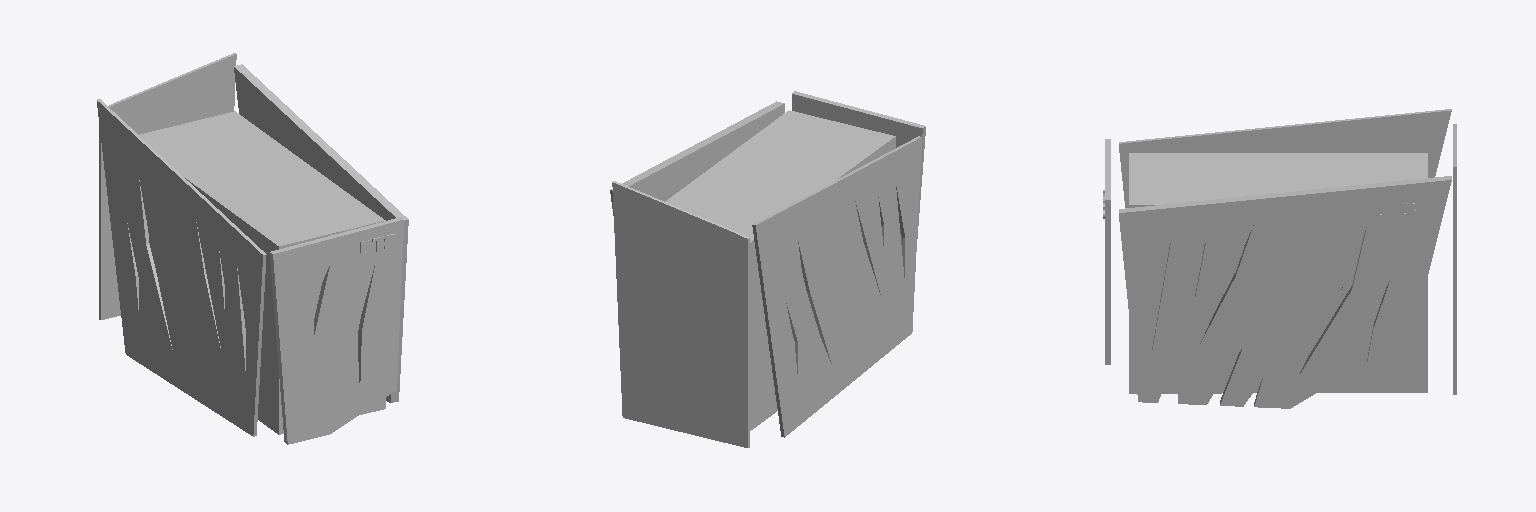
File: Building11.obj
The picture shows the model from 3 angles: view 1: azimuth 30°, elevation 25°; view 2: azimuth 150°, elevation 25°; view 3: azimuth 270°, elevation 25°; orthographic projection.
Parts seen in each view (by area): view 1: Mesh8 Model, Mesh10 Model, Mesh11 Model, Mesh9 Model, Mesh7 Model; view 2: Mesh8 Model, Mesh9 Model, Mesh11 Model, Mesh7 Model, Mesh10 Model; view 3: Mesh7 Model, Mesh11 Model, Mesh8 Model, Mesh10 Model, Mesh9 Model.
Boxes of the visible parts, x1,y1,x2,y2 form: Mesh8 Model: [97, 99, 266, 436]; Mesh10 Model: [270, 217, 403, 444]; Mesh11 Model: [139, 111, 385, 434]; Mesh9 Model: [99, 53, 236, 319]; Mesh7 Model: [234, 64, 408, 402]; Mesh8 Model: [752, 136, 921, 437]; Mesh9 Model: [612, 181, 749, 447]; Mesh11 Model: [665, 110, 895, 430]; Mesh7 Model: [610, 101, 784, 215]; Mesh10 Model: [792, 91, 925, 244]; Mesh7 Model: [1119, 176, 1451, 408]; Mesh11 Model: [1129, 153, 1427, 393]; Mesh8 Model: [1119, 109, 1451, 207]; Mesh10 Model: [1105, 139, 1110, 364]; Mesh9 Model: [1453, 124, 1456, 394].
Bounding box in the file's own units: 354 × 563 × 738.